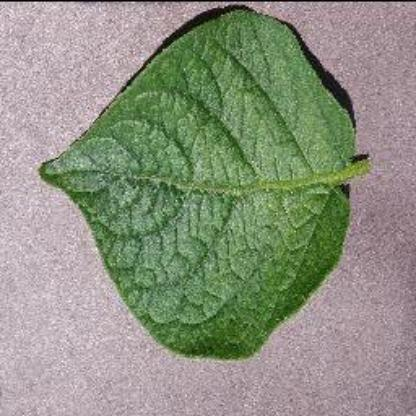Healthy-plant: (36, 5, 380, 365)
